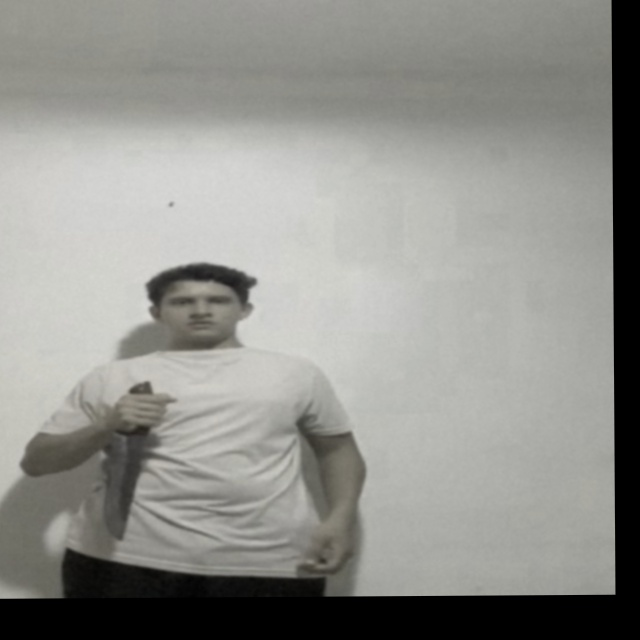Sharp-Object: (98, 430, 145, 538)
